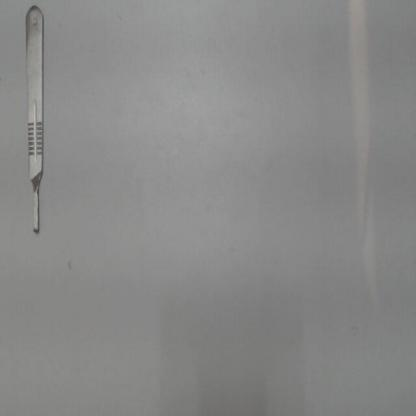No.4 BP Handle: (18, 5, 47, 239)
